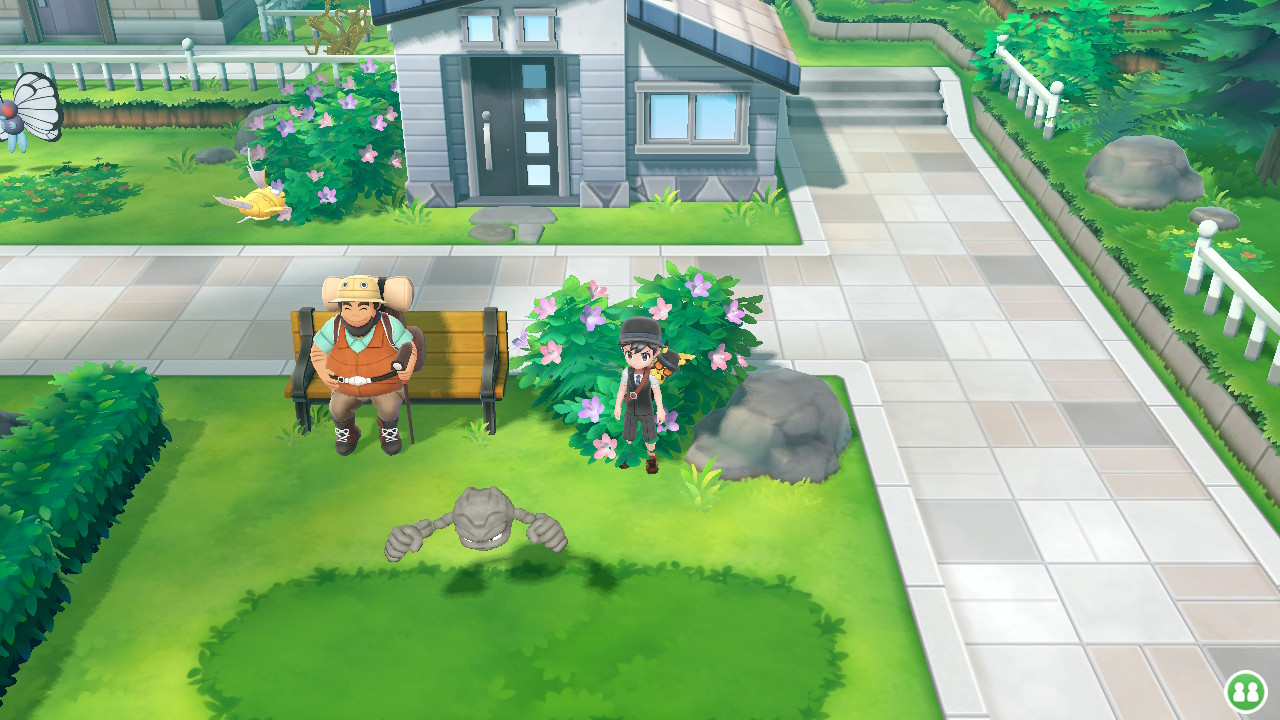Golden: (213, 171, 295, 223)
